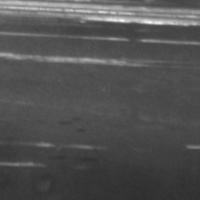scratches: (0, 0, 199, 30), (0, 48, 167, 70), (0, 152, 48, 174)
